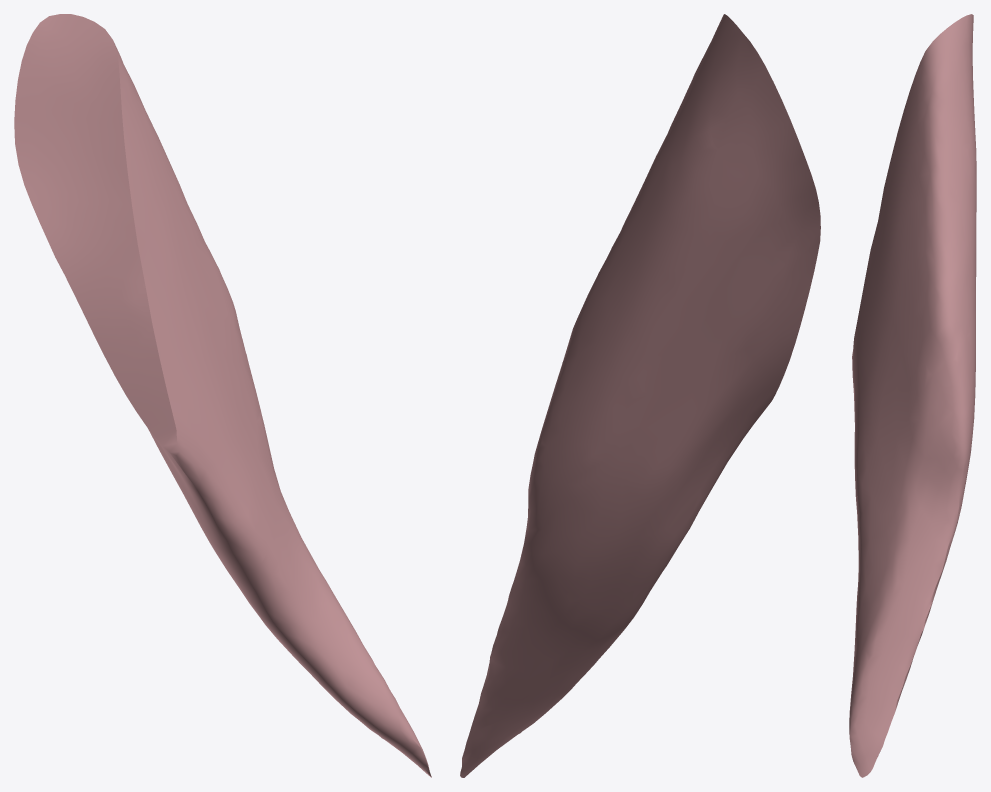
The model's file is fma297810_mm1861m.glb.
The picture shows the model from 3 angles, left to right: view 1: azimuth 30°, elevation 25°; view 2: azimuth 150°, elevation 25°; view 3: azimuth 270°, elevation 25°; orthographic projection. The views are drawn at different scales.
Visible parts, largest first — view 1: FMA297810_MM1861M; view 2: FMA297810_MM1861M; view 3: FMA297810_MM1861M.
Part boxes in pixels (x1,y1,x2,y2): FMA297810_MM1861M: (14, 14, 431, 777); FMA297810_MM1861M: (460, 14, 820, 777); FMA297810_MM1861M: (849, 14, 976, 777).
Size of the model in its own units: 0.031 by 0.0649 by 0.0117.
